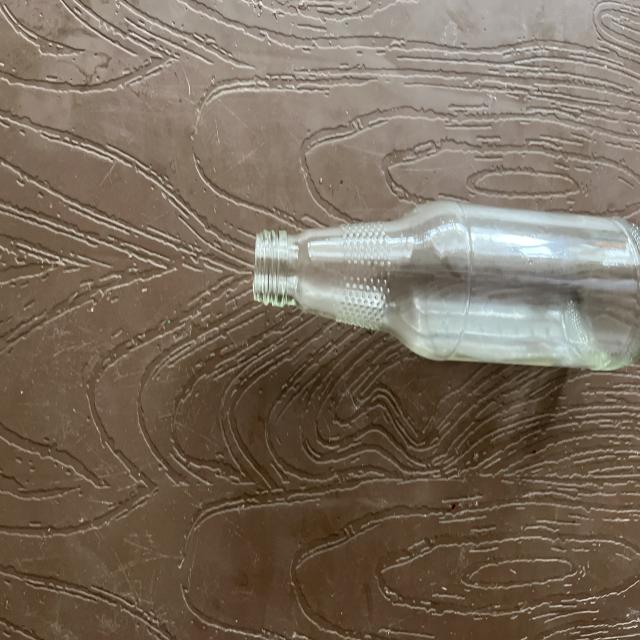Glass_Bottle: (254, 201, 639, 370)
